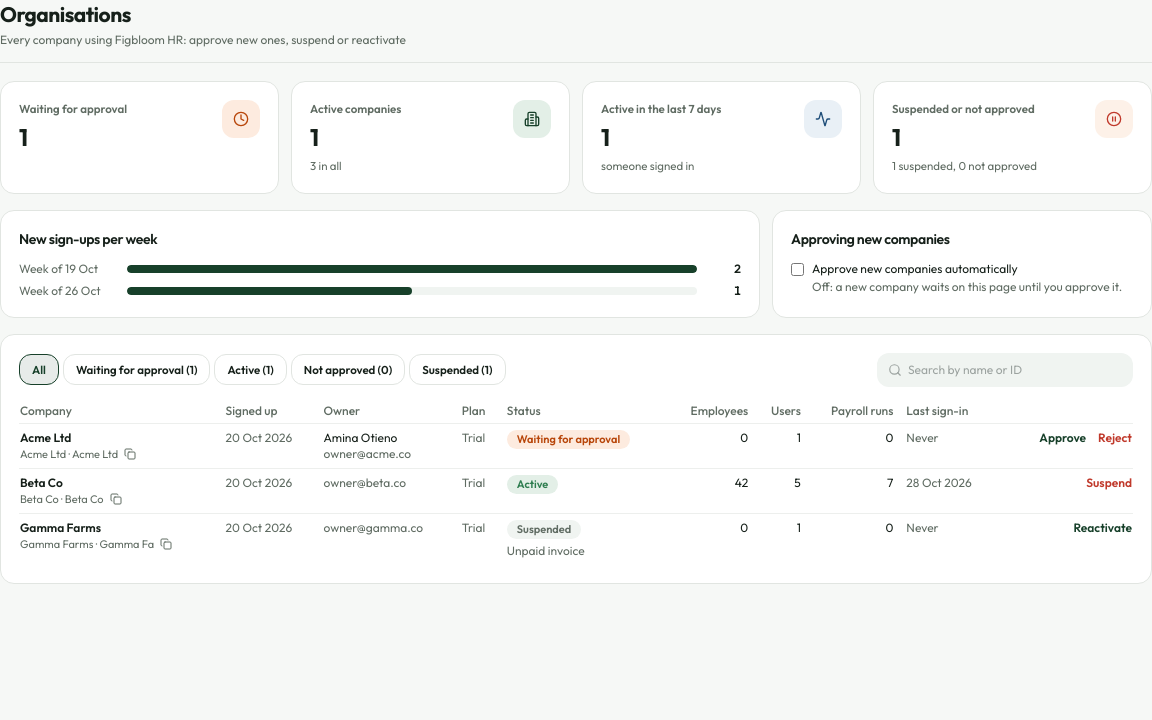
Test case: the organisations page › rejects only with a reason
The width and height of the screenshot is (1152, 720).
Later steps or results of the test are not shown.
Click the button "Reject". click: (1115, 438)
box: [1098,430,1132,446]
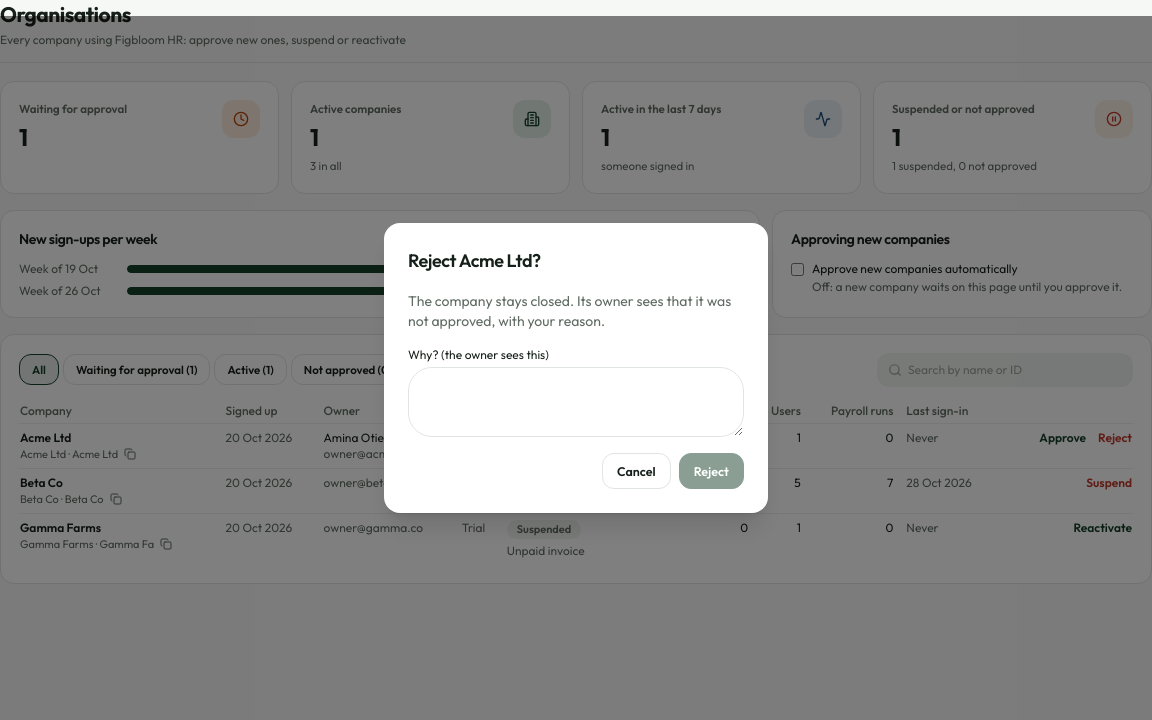
Expected: the button "Reject" is disabled, [679,453,744,489]
Type "Not a real business" into the text box labelled "Why? (the owner sees this)". click: (576, 402)
box: [408,367,744,437]
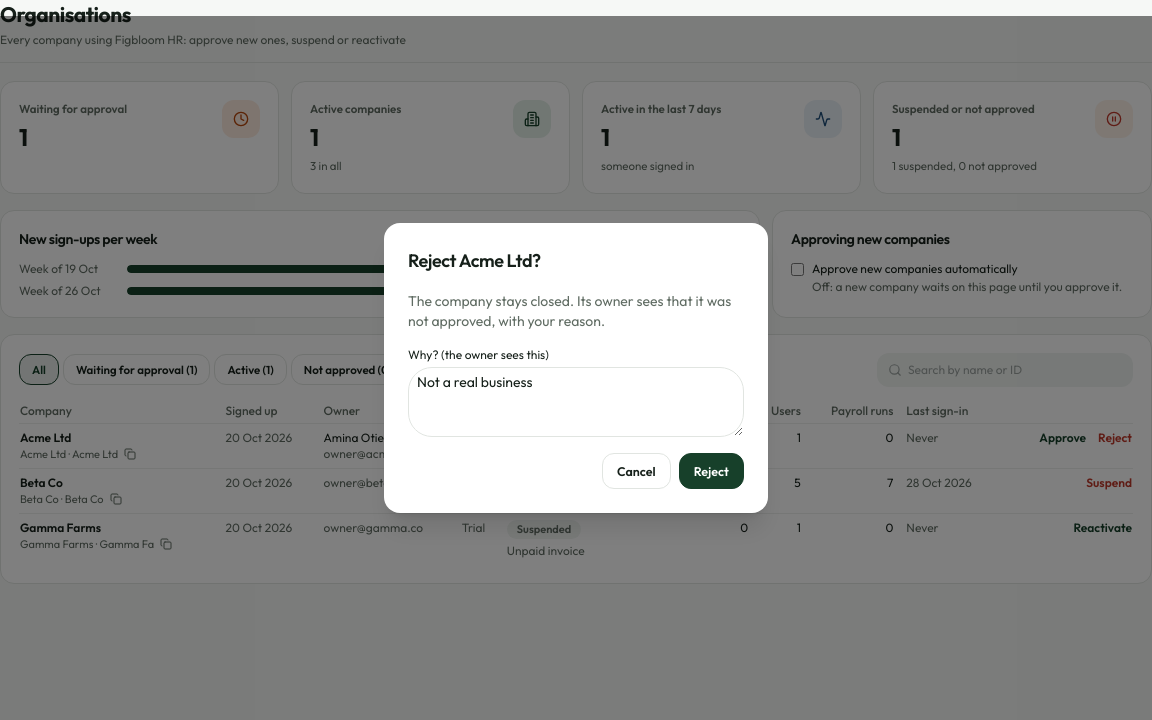
Expected: the button "Reject" is enabled, [679,453,744,489]
